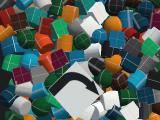Right: (48, 61, 104, 120)
